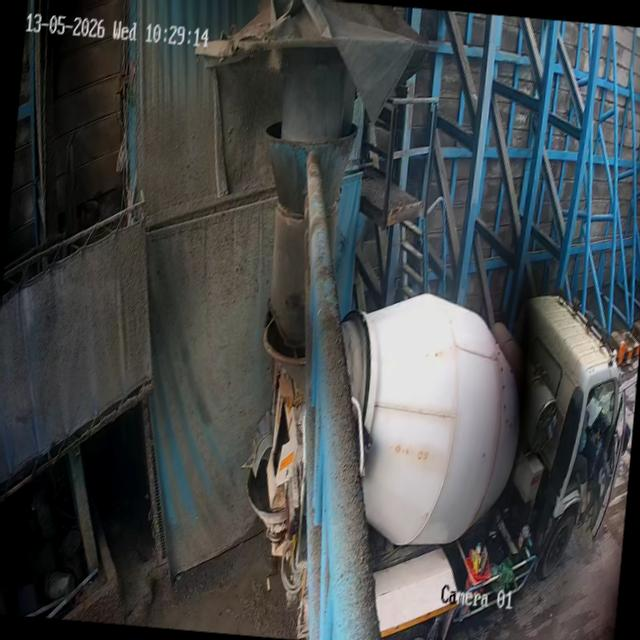cement_mixer_truck: (235, 275, 628, 640)
swing_chute: (264, 120, 357, 342)
